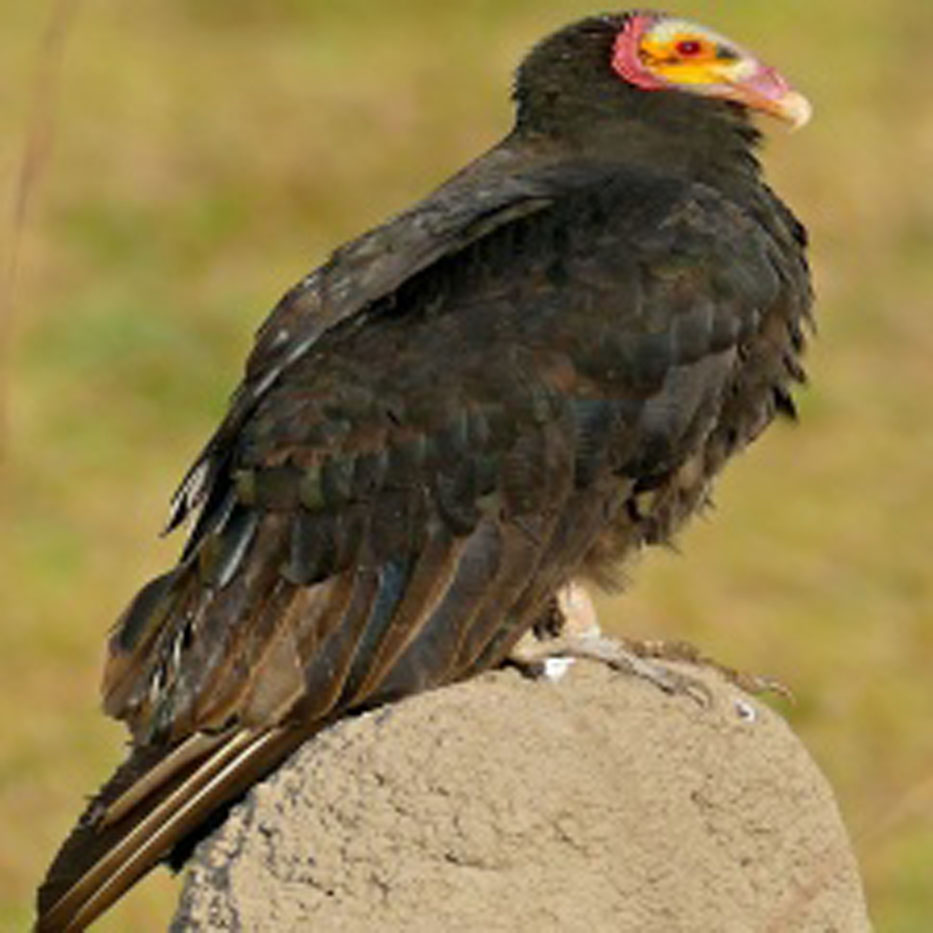Pengoyak Daging: (772, 95, 829, 141)
